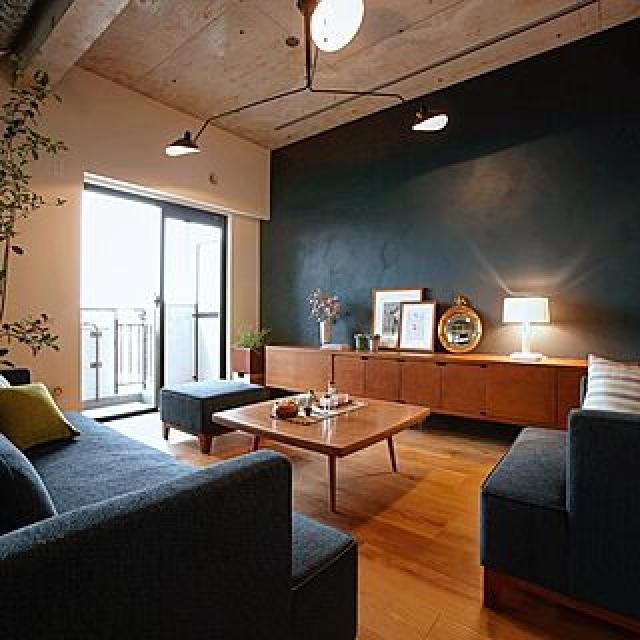vintage desk: (209, 384, 437, 514)
vintage shelf: (262, 331, 572, 428)
vintage sofa: (472, 347, 640, 637)
